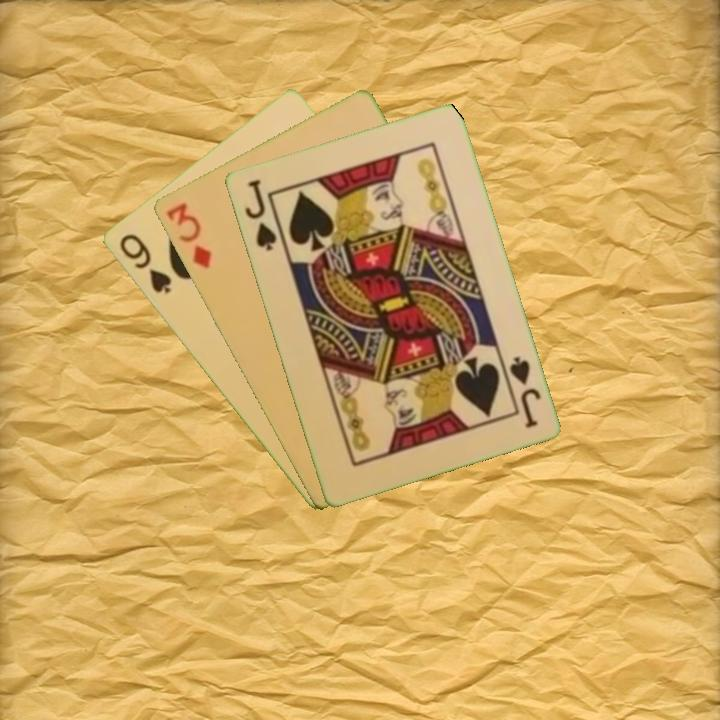3d: (162, 199, 214, 272)
9s: (115, 230, 174, 297)
Js: (499, 352, 543, 431), (241, 175, 279, 254)
